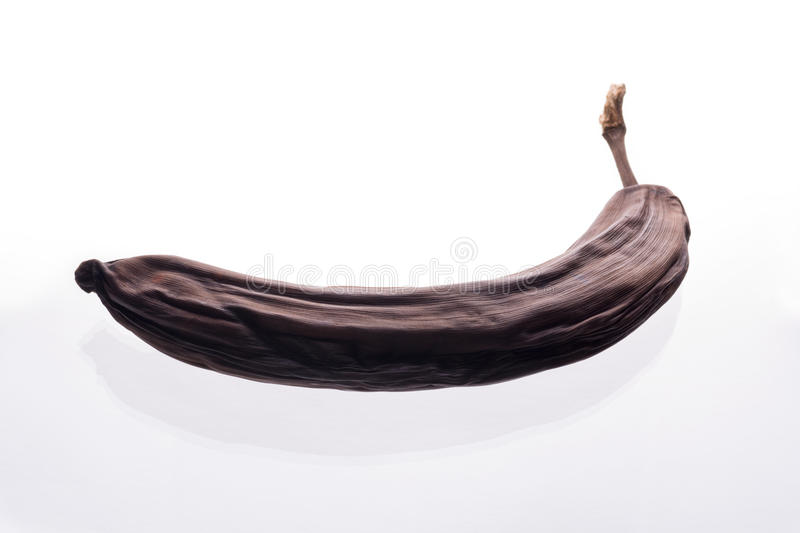rotten_banana: (73, 84, 690, 391)
